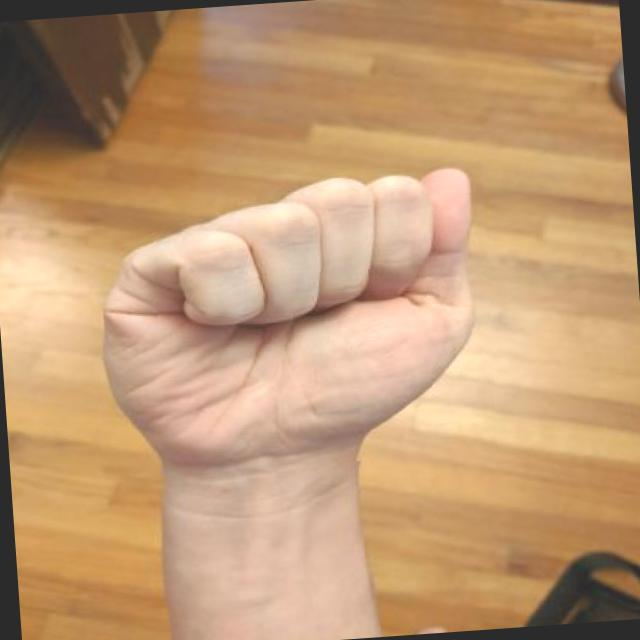A: (82, 160, 502, 480)
